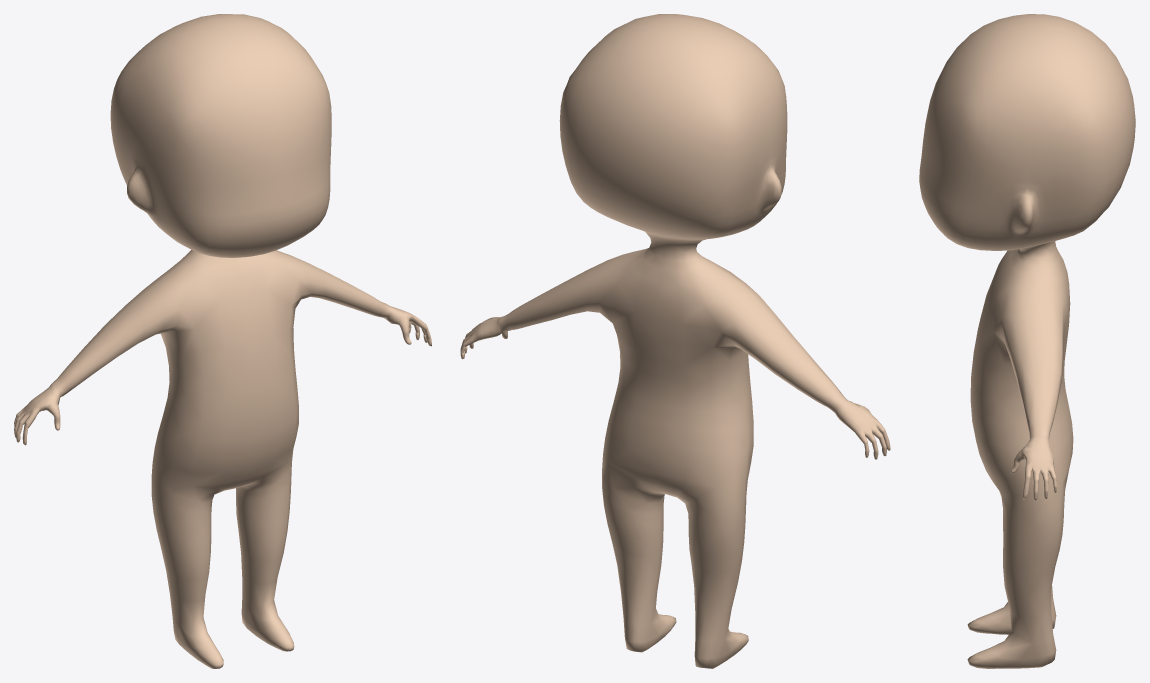
The model's file is body.glb.
3 views of the same model, side by side, from view 1: azimuth 30°, elevation 25°; view 2: azimuth 150°, elevation 25°; view 3: azimuth 270°, elevation 25° (orthographic). The views are drawn at different scales.
Parts seen in each view (by area): view 1: BODY_0; view 2: BODY_0; view 3: BODY_0.
Part boxes in pixels (bbox=[...]): BODY_0: bbox=[14, 14, 431, 668]; BODY_0: bbox=[460, 14, 890, 668]; BODY_0: bbox=[919, 14, 1135, 668].
Bounding box in the file's own units: 3.38 × 4.83 × 1.52.
